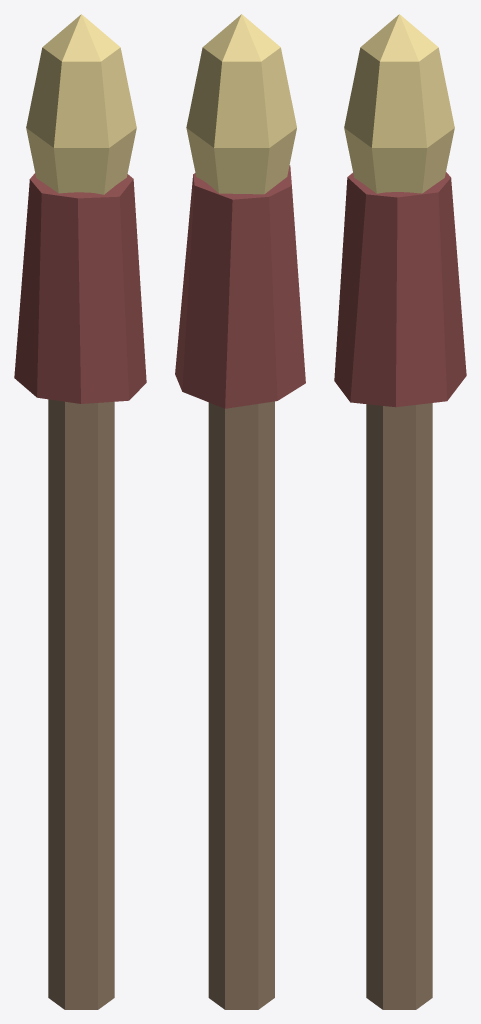
File: torch.glb
3 renders of one model, left to right at view 1: azimuth 90°, elevation 25°; view 2: azimuth 210°, elevation 25°; view 3: azimuth 270°, elevation 25°, orthographic.
Visible parts, largest first — view 1: torch; view 2: torch; view 3: torch.
Boxes of the visible parts, <box> form: torch: <box>14,14,146,1009</box>; torch: <box>175,14,305,1009</box>; torch: <box>334,14,466,1009</box>.
Bounding box in the file's own units: 0.0697 × 0.588 × 0.0717.
